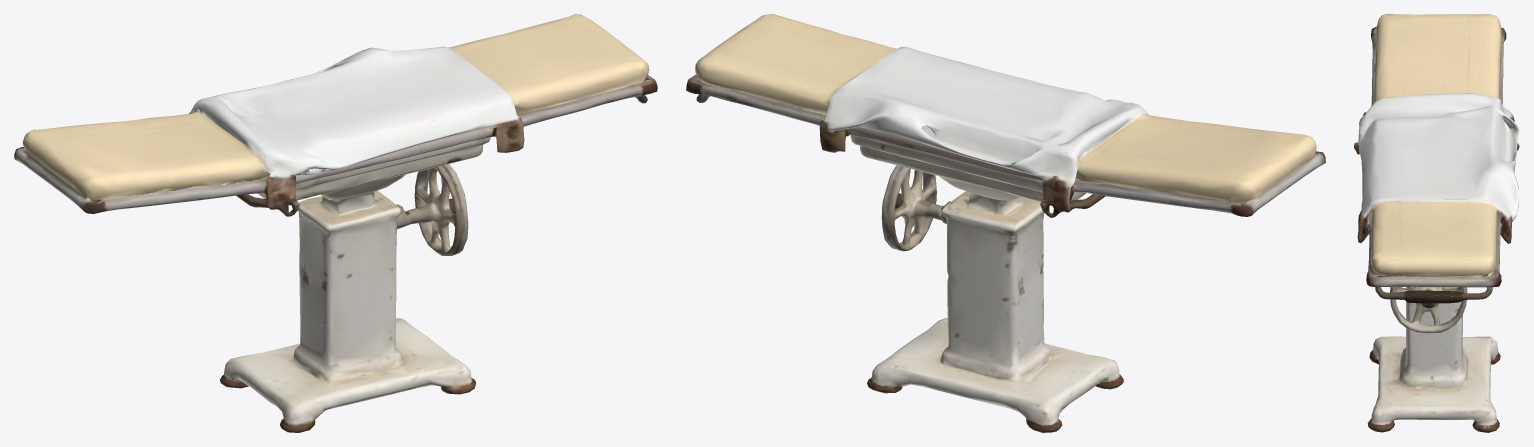
File: mesa_operaciones.glb
3 views of the same model, side by side, from view 1: azimuth 30°, elevation 25°; view 2: azimuth 150°, elevation 25°; view 3: azimuth 270°, elevation 25° (orthographic). The views are drawn at different scales.
Parts seen in each view (by area): view 1: geometry_0; view 2: geometry_0; view 3: geometry_0.
Part boxes in pixels (x1=…): geometry_0: x1=14, y1=14, x2=657, y2=432; geometry_0: x1=686, y1=14, x2=1325, y2=432; geometry_0: x1=1354, y1=14, x2=1519, y2=432.
Size of the model in its own units: 1.9 by 0.9498 by 0.55.
Materials: 1 (1 with a texture image).
